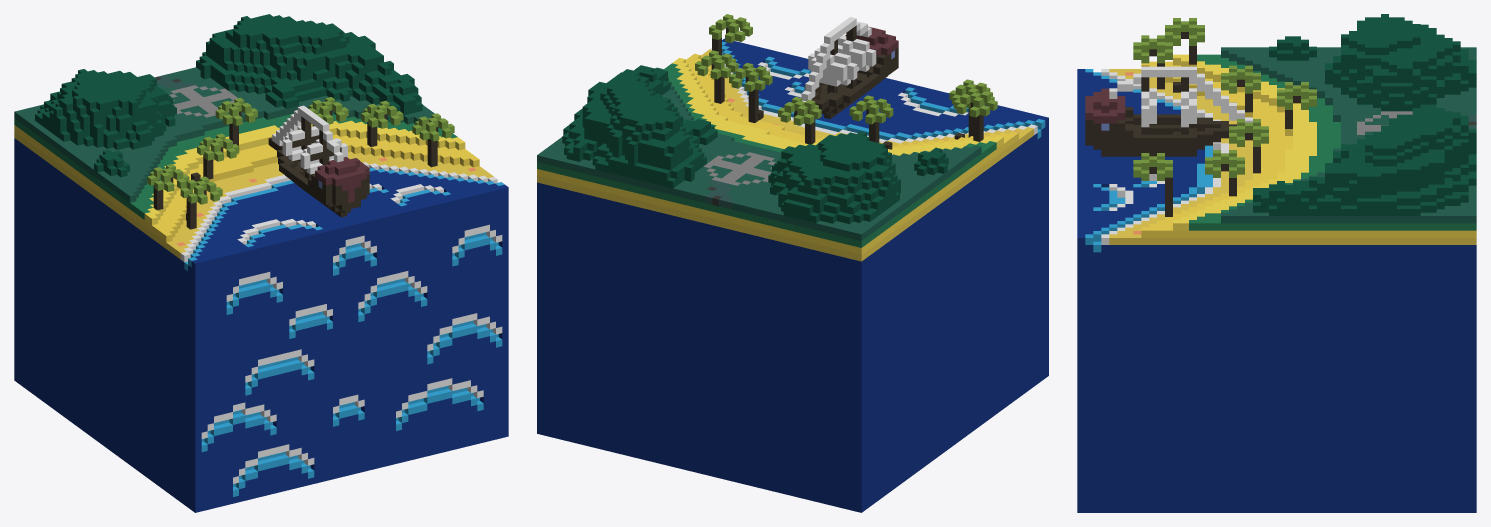
The model's file is wall7 скин 1.obj.
3 views of the same model, side by side, from view 1: azimuth 30°, elevation 25°; view 2: azimuth 150°, elevation 25°; view 3: azimuth 270°, elevation 25° (orthographic). The views are drawn at different scales.
Bounding box in the file's own units: 5 × 5 × 5.
Materials: 1 (1 with a texture image).
